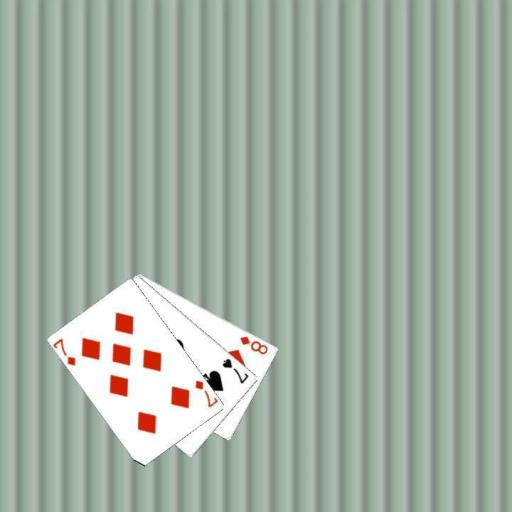card-corner: (219, 355, 250, 385), (51, 335, 78, 367), (192, 377, 218, 409), (237, 333, 269, 356)
